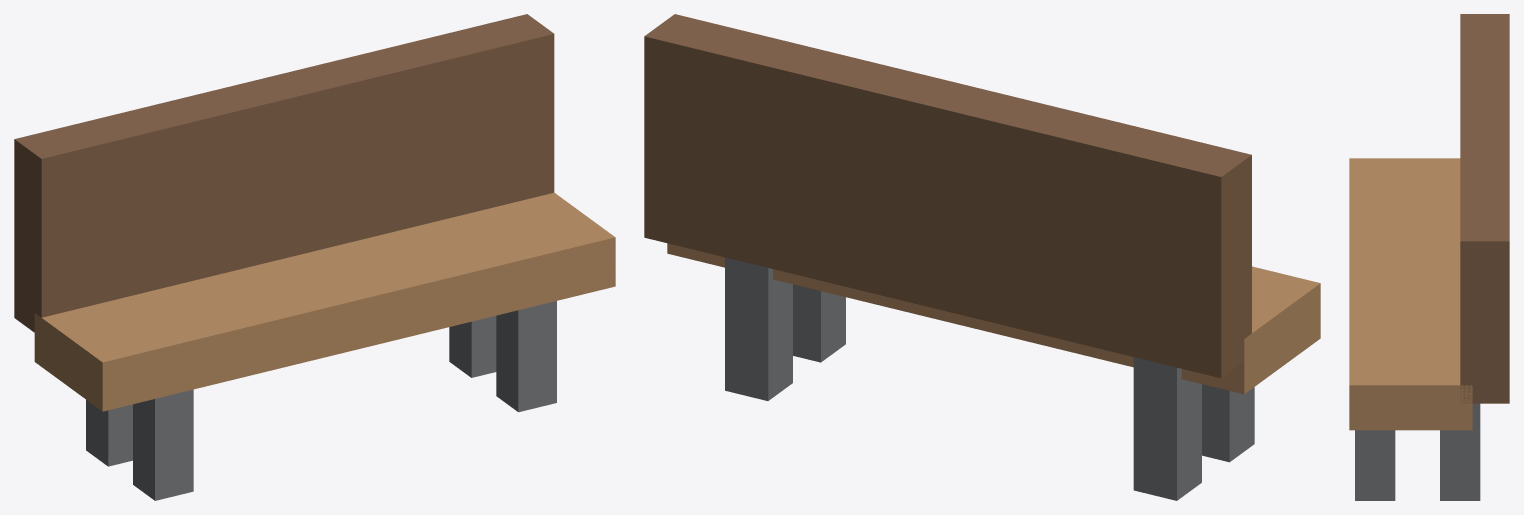
File: bench.glb
3 views of the same model, side by side, from view 1: azimuth 30°, elevation 25°; view 2: azimuth 150°, elevation 25°; view 3: azimuth 270°, elevation 25° (orthographic). The views are drawn at different scales.
Visible parts, largest first — view 1: Bench_Back, Bench_Seat, Bench_Leg_-0.85_A, Bench_Leg_0.85_A, Bench_Leg_-0.85_B, Bench_Leg_0.85_B; view 2: Bench_Back, Bench_Seat, Bench_Leg_-0.85_B, Bench_Leg_0.85_B, Bench_Leg_-0.85_A, Bench_Leg_0.85_A; view 3: Bench_Seat, Bench_Back, Bench_Leg_0.85_B, Bench_Leg_0.85_A.
Boxes of the visible parts, bbox=[...] form: Bench_Back: bbox=[14, 14, 554, 332]; Bench_Seat: bbox=[34, 192, 615, 411]; Bench_Leg_-0.85_A: bbox=[133, 389, 193, 500]; Bench_Leg_0.85_A: bbox=[496, 301, 556, 412]; Bench_Leg_-0.85_B: bbox=[86, 400, 132, 466]; Bench_Leg_0.85_B: bbox=[449, 316, 496, 377]; Bench_Back: bbox=[644, 14, 1251, 378]; Bench_Seat: bbox=[667, 243, 1320, 394]; Bench_Leg_-0.85_B: bbox=[1133, 357, 1201, 500]; Bench_Leg_0.85_B: bbox=[725, 257, 792, 400]; Bench_Leg_-0.85_A: bbox=[1202, 384, 1254, 462]; Bench_Leg_0.85_A: bbox=[793, 284, 845, 362]; Bench_Seat: bbox=[1349, 158, 1472, 430]; Bench_Back: bbox=[1460, 14, 1509, 403]; Bench_Leg_0.85_B: bbox=[1440, 403, 1480, 500]; Bench_Leg_0.85_A: bbox=[1355, 430, 1395, 500].
Size of the model in its own units: 2.4 by 1.4 by 0.715.
